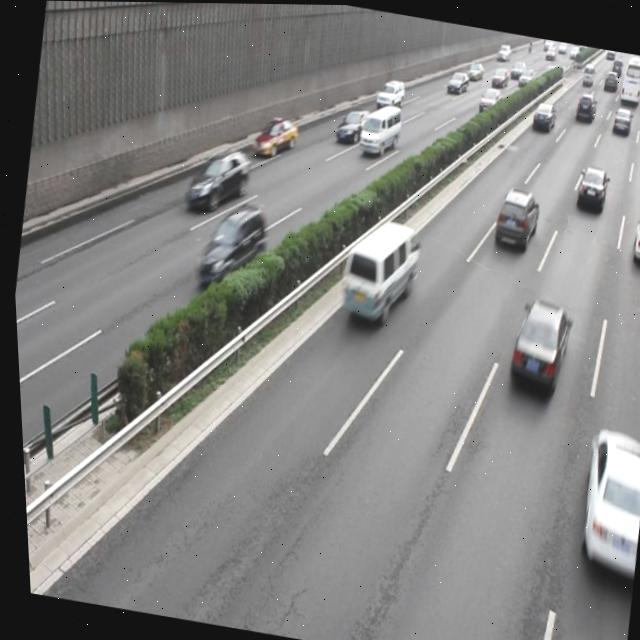car: (562, 422, 640, 582), (189, 195, 269, 296), (499, 292, 571, 393), (179, 143, 252, 217), (487, 183, 539, 251), (247, 112, 298, 160), (570, 162, 606, 211), (332, 105, 369, 145), (625, 208, 640, 266)
truck: (330, 211, 421, 329), (354, 99, 403, 158)
